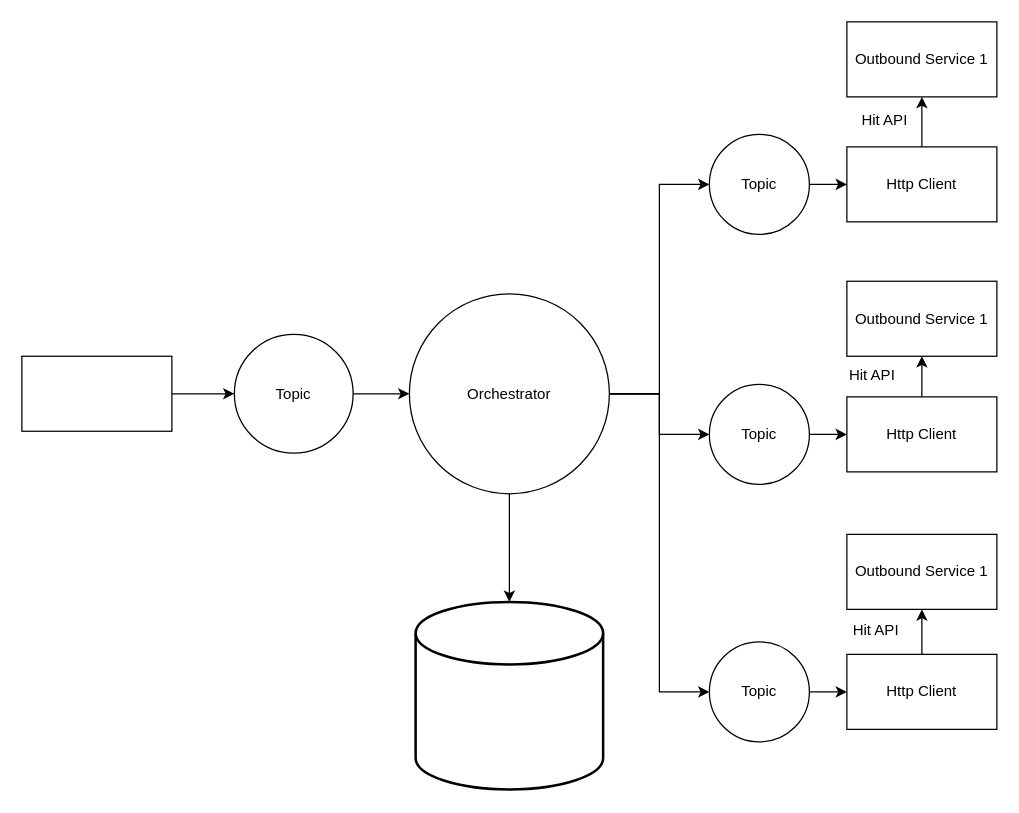
Image size: 1019x813. Some labels were removed from this diagram. Each missing label, with the centre of its shape:
"DB Transaction Transaction Detail Transaction Config" goes at (x=509, y=695).
"Order Service" goes at (x=96, y=393).
